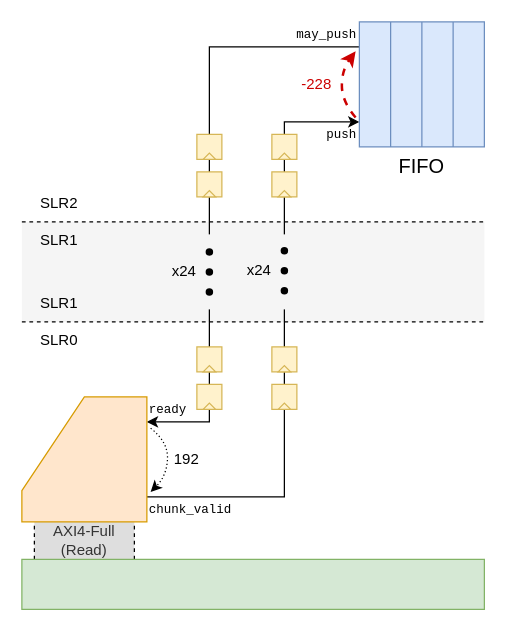
Some shapes in this 508 by 631 pixel diagram are drawn without their labels. The centre of each missing label's shape, as x and y in pixels:
Burst Reader: point 84,459
HBM: point 252,583
